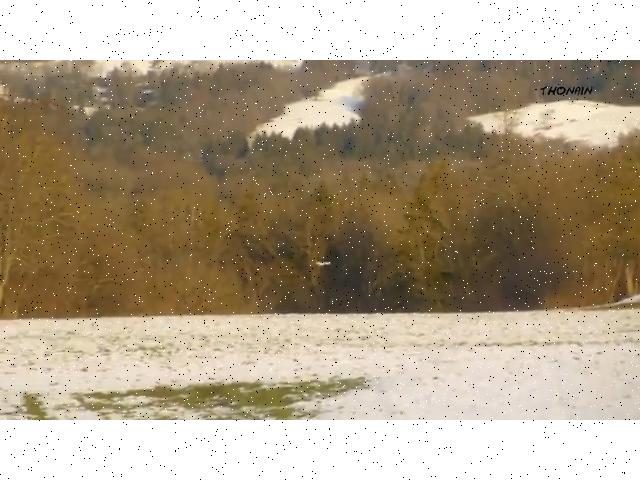Anti-Drone: (311, 254, 337, 274)
